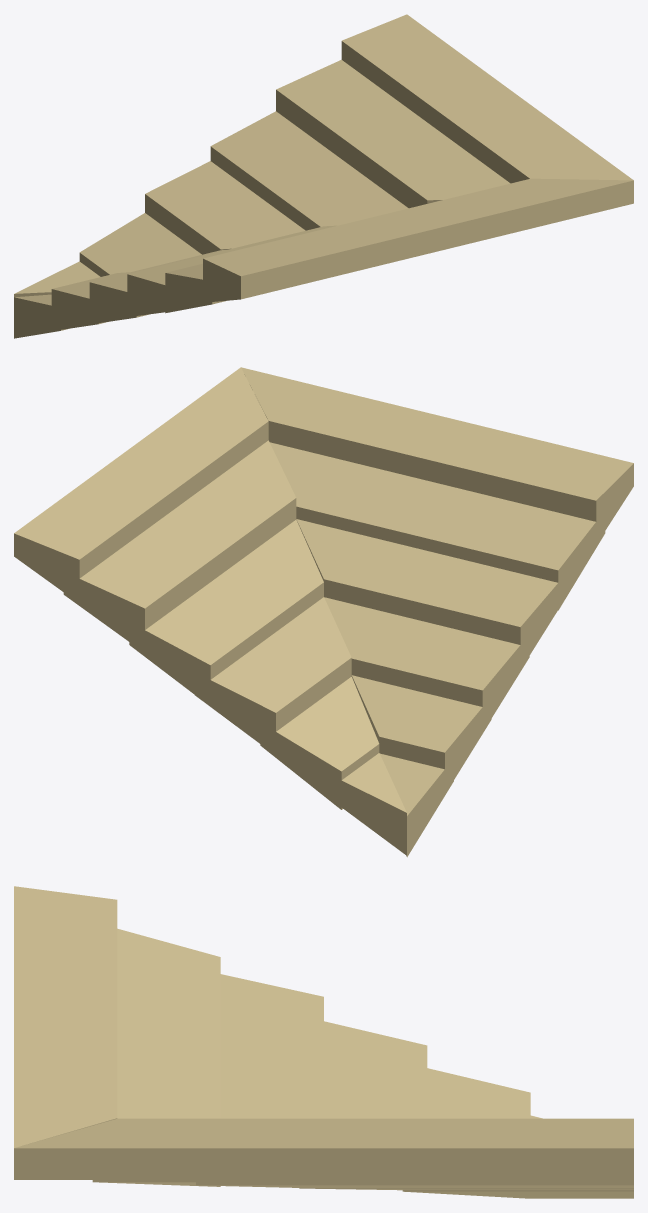
File: thatch_roof_inner_low.glb
The picture shows the model from 3 angles, top to bottom: view 1: azimuth 30°, elevation 25°; view 2: azimuth 150°, elevation 25°; view 3: azimuth 270°, elevation 25°; orthographic projection. The views are drawn at different scales.
Parts seen in each view (by area): view 1: Roof; view 2: Roof; view 3: Roof.
Boxes of the visible parts, left/top/right/bottom form: Roof: left=14, top=14, right=633, bottom=338; Roof: left=14, top=367, right=633, bottom=857; Roof: left=14, top=886, right=633, bottom=1198.
Size of the model in its own units: 3 by 1.67 by 3.
